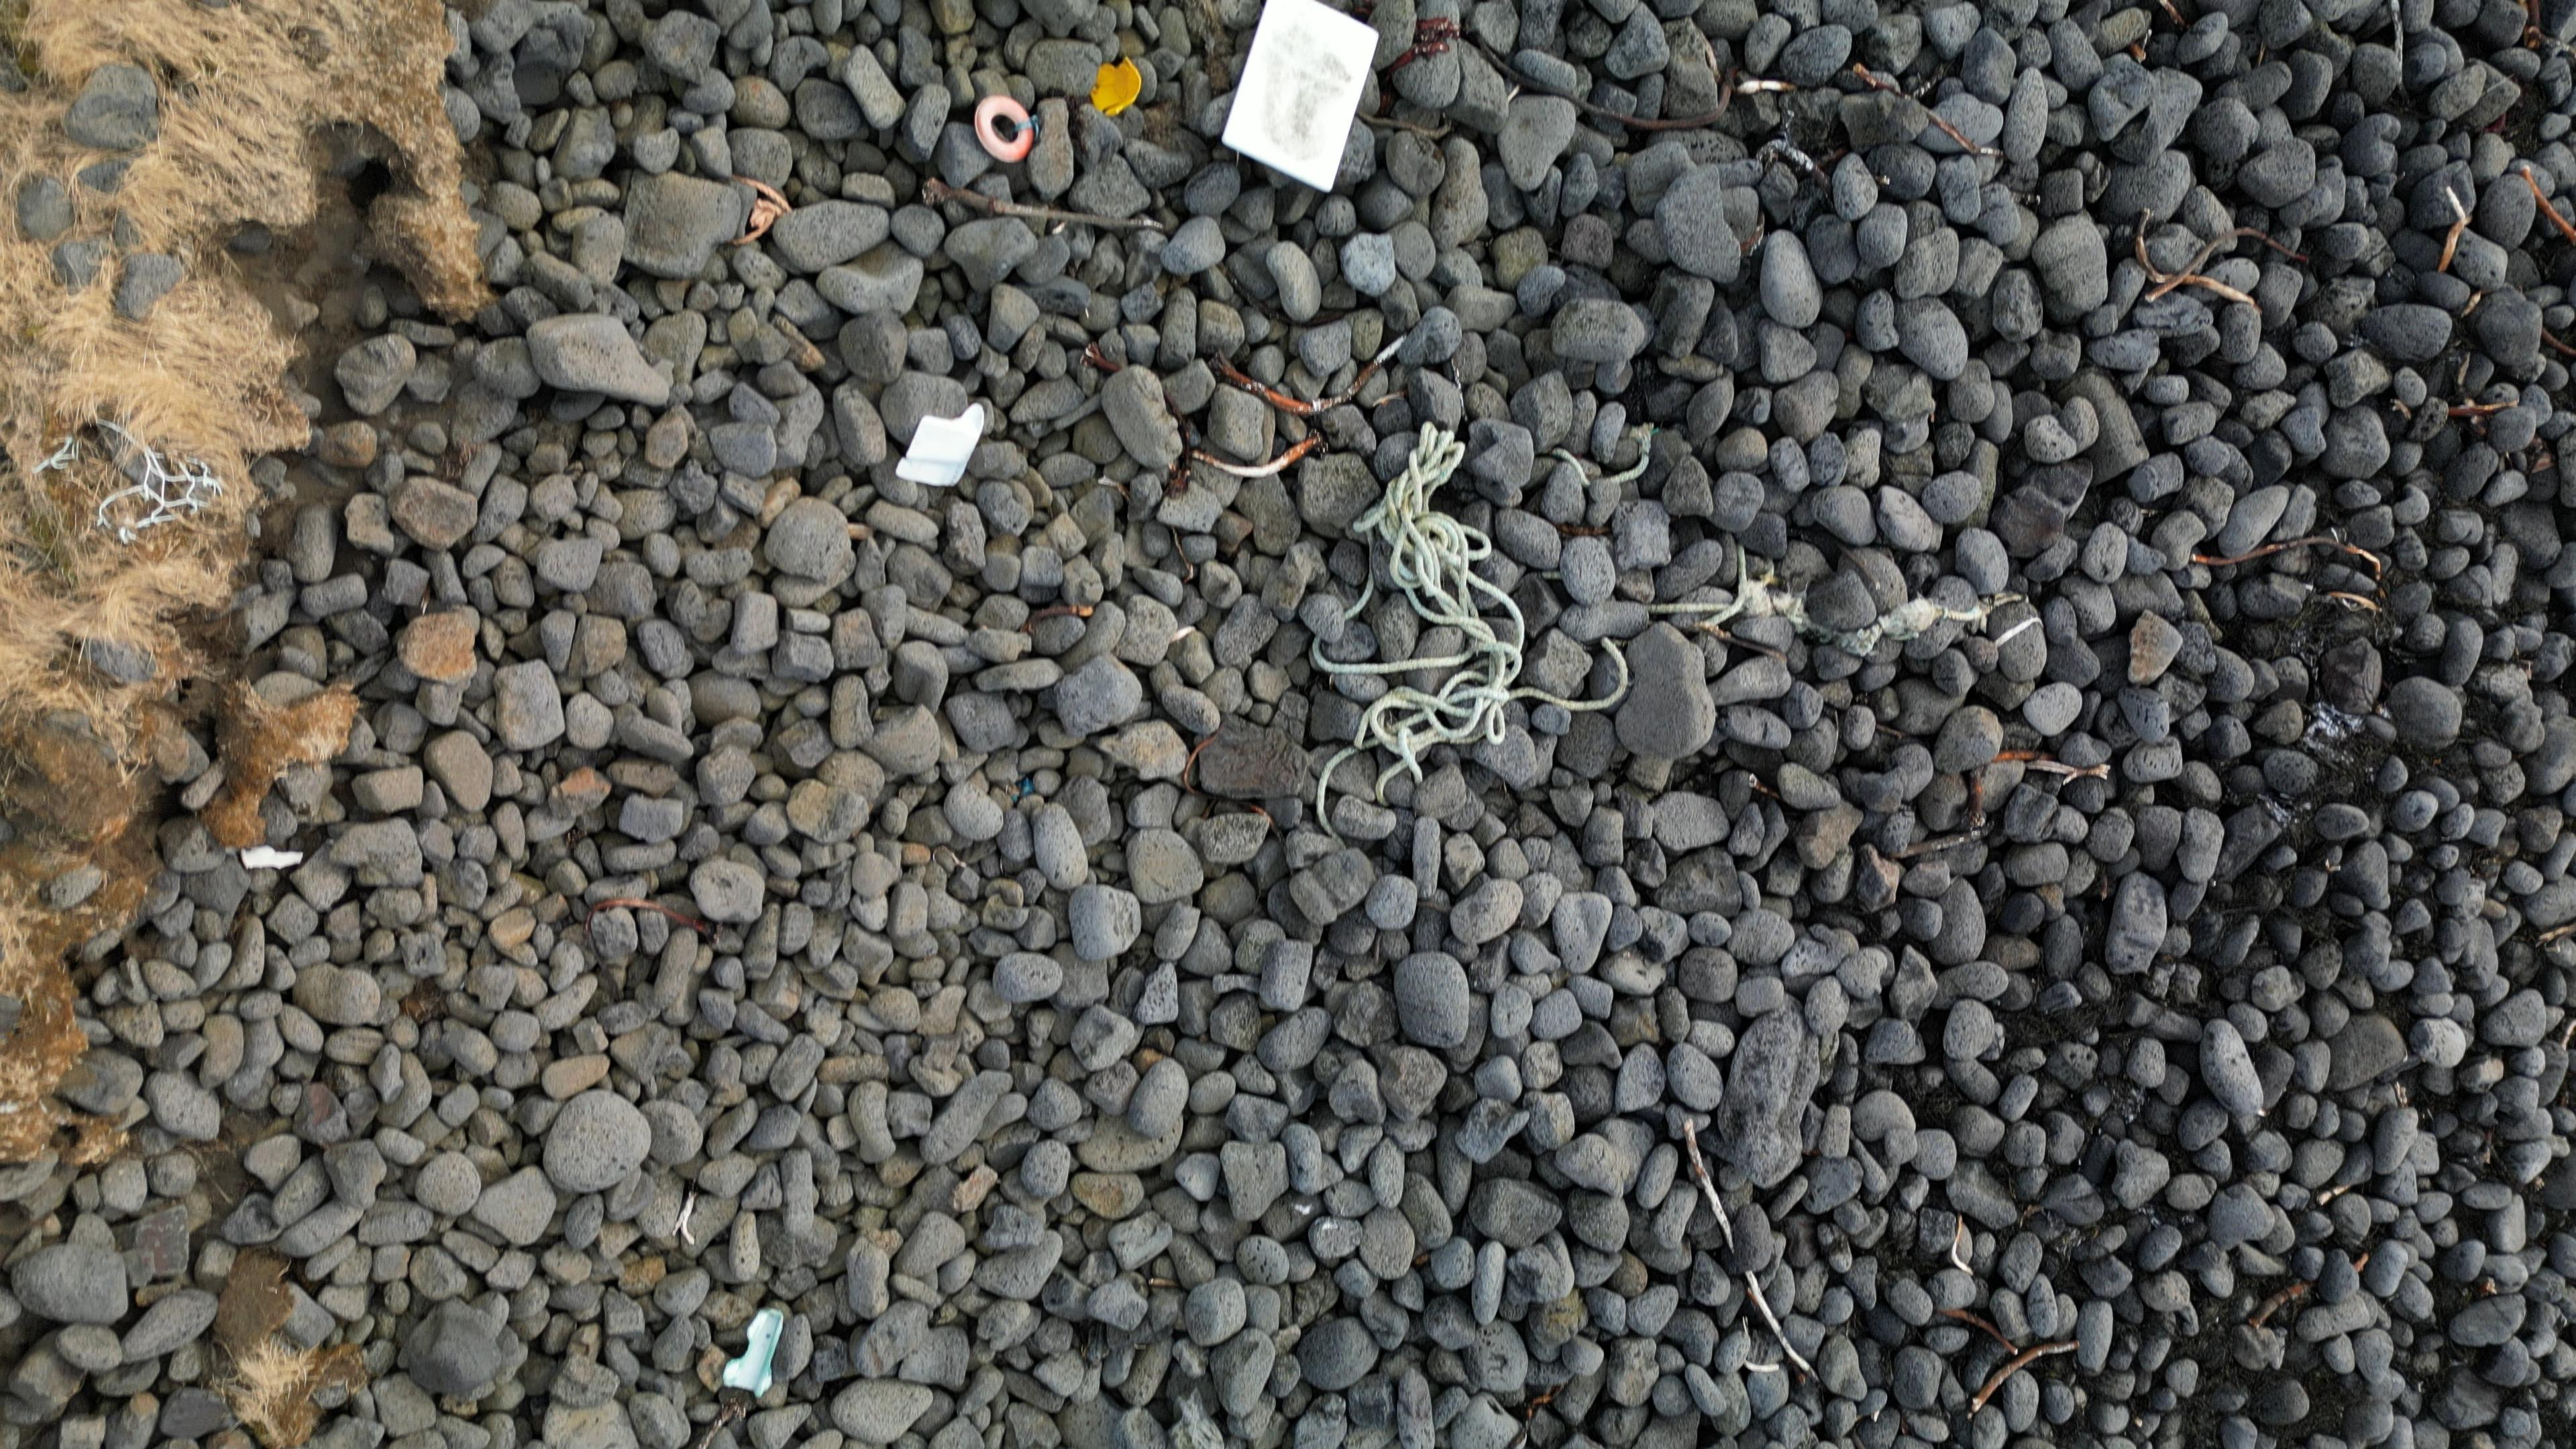trash: (1313, 423, 1629, 835), (1223, 0, 1378, 191), (96, 418, 221, 543), (895, 403, 985, 488), (720, 1307, 786, 1399), (971, 96, 1031, 161), (1092, 60, 1143, 115), (1610, 428, 1651, 483), (35, 437, 81, 472), (241, 846, 303, 870), (1569, 458, 1585, 483), (1555, 448, 1569, 458)
